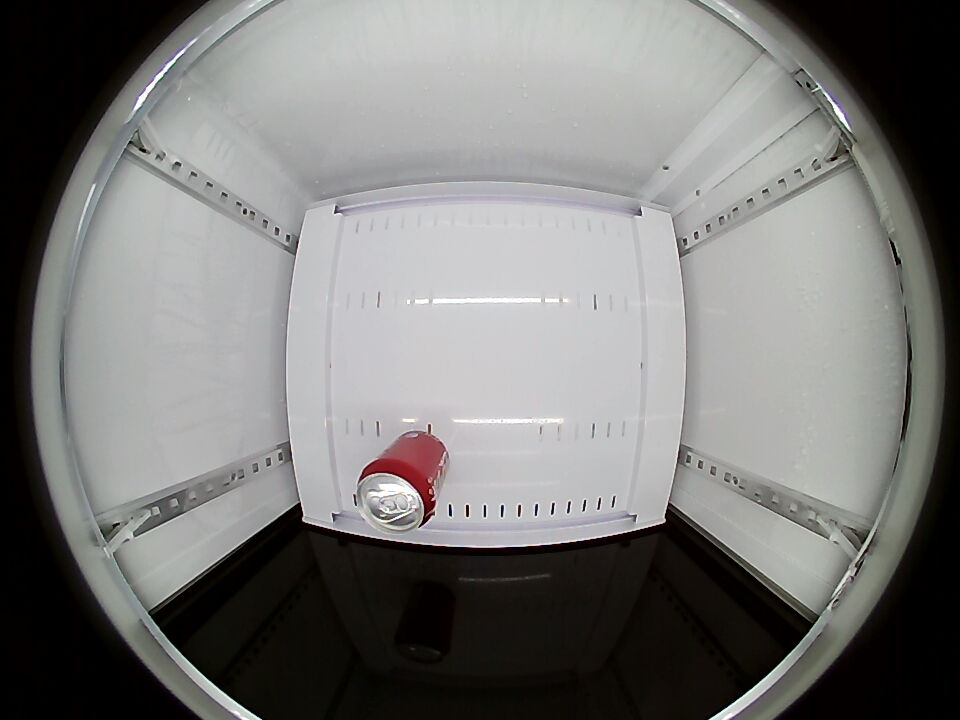kele: (354, 459, 440, 534)
